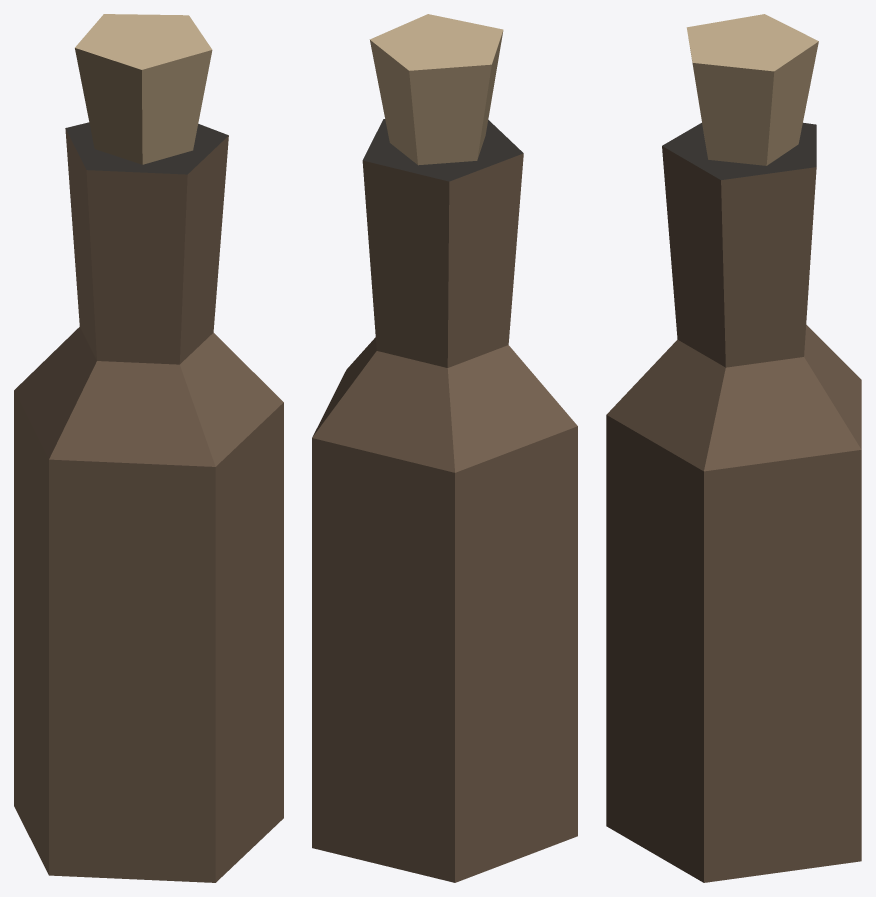
The model's file is TB_D_Prop_Bottle_Tall_B.FBX.
The picture shows the model from 3 angles, left to right: view 1: azimuth 30°, elevation 25°; view 2: azimuth 150°, elevation 25°; view 3: azimuth 270°, elevation 25°; orthographic projection.
Parts seen in each view (by area): view 1: TB_D_Prop_Bottle_Tall_B; view 2: TB_D_Prop_Bottle_Tall_B; view 3: TB_D_Prop_Bottle_Tall_B.
Part boxes in pixels (<box>): TB_D_Prop_Bottle_Tall_B: <box>14,14,283,882</box>; TB_D_Prop_Bottle_Tall_B: <box>312,14,577,882</box>; TB_D_Prop_Bottle_Tall_B: <box>606,14,861,882</box>.
Bounding box in the file's own units: 0.2856 × 0.9197 × 0.2716.
